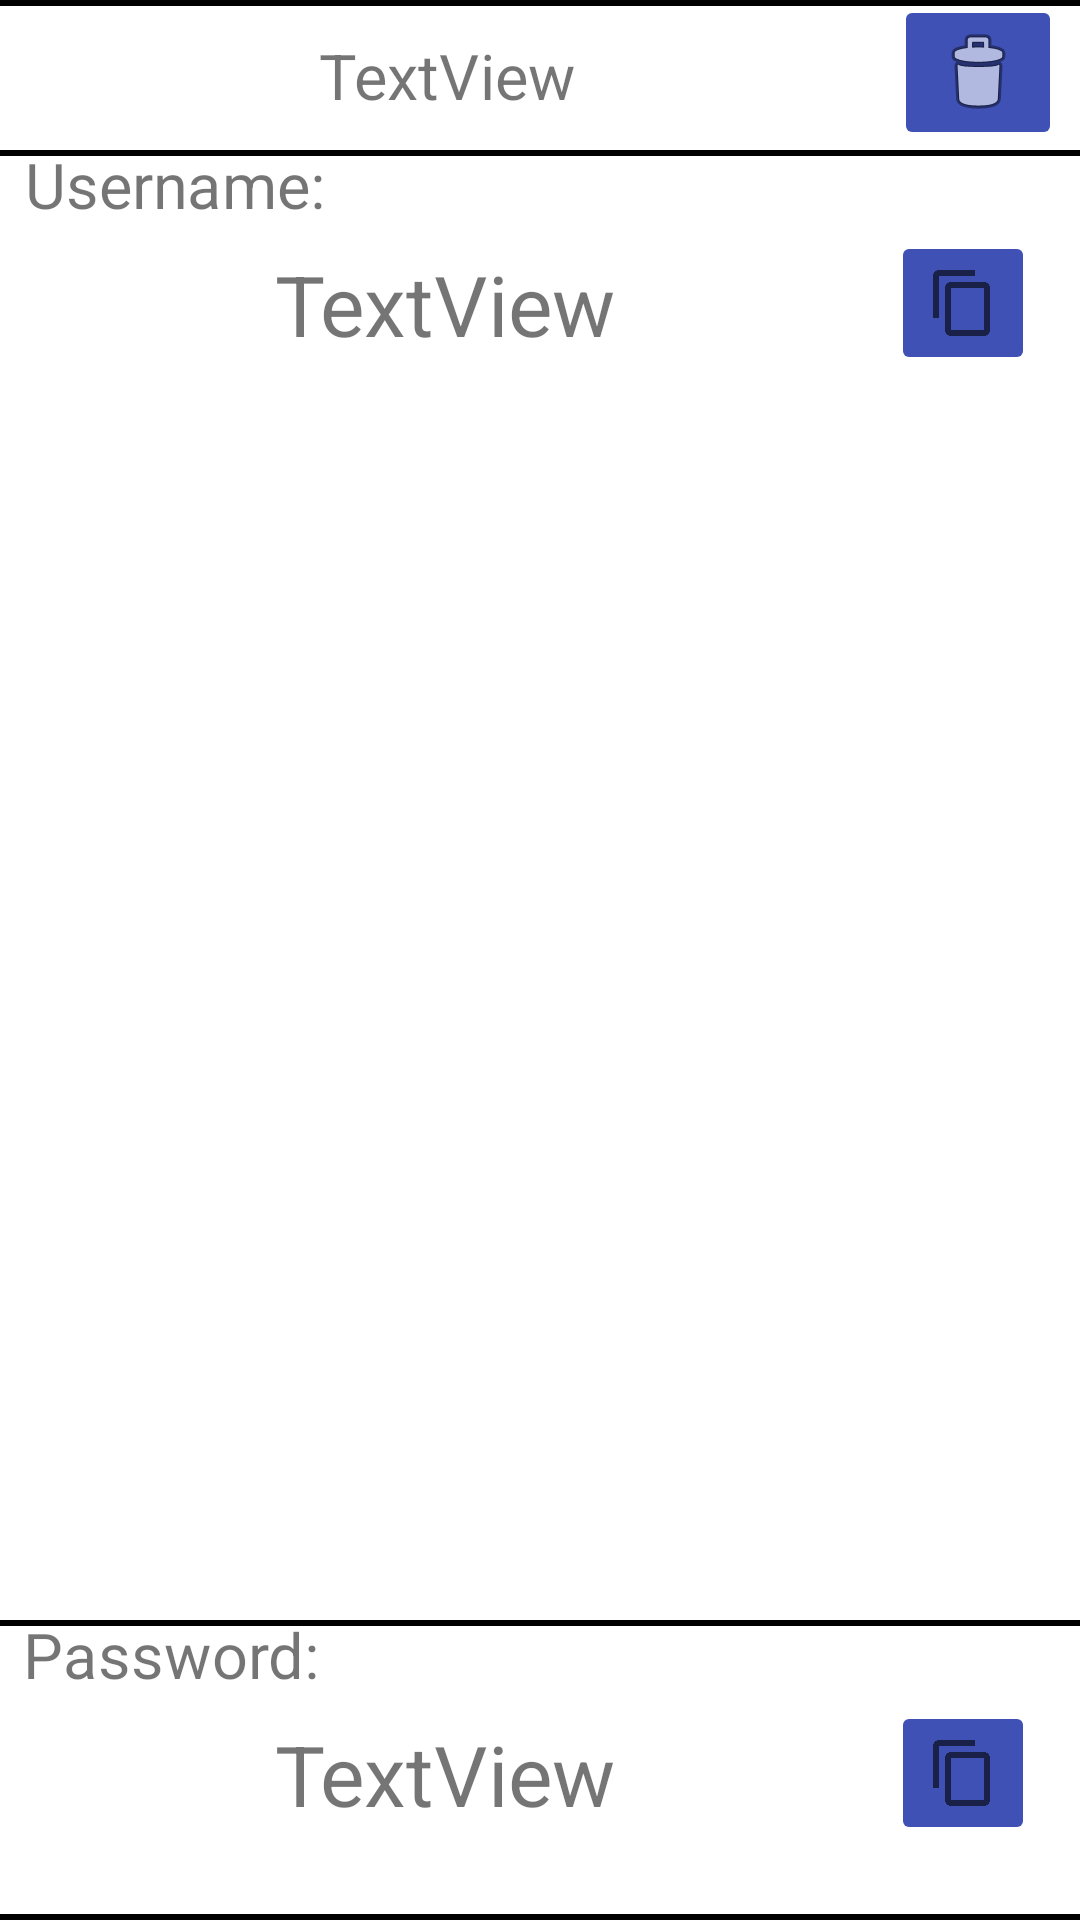

Point at icon controls on the screen. Image size 1080 × 1920, points as (x=x, y=y).
delete: (x=978, y=72)
